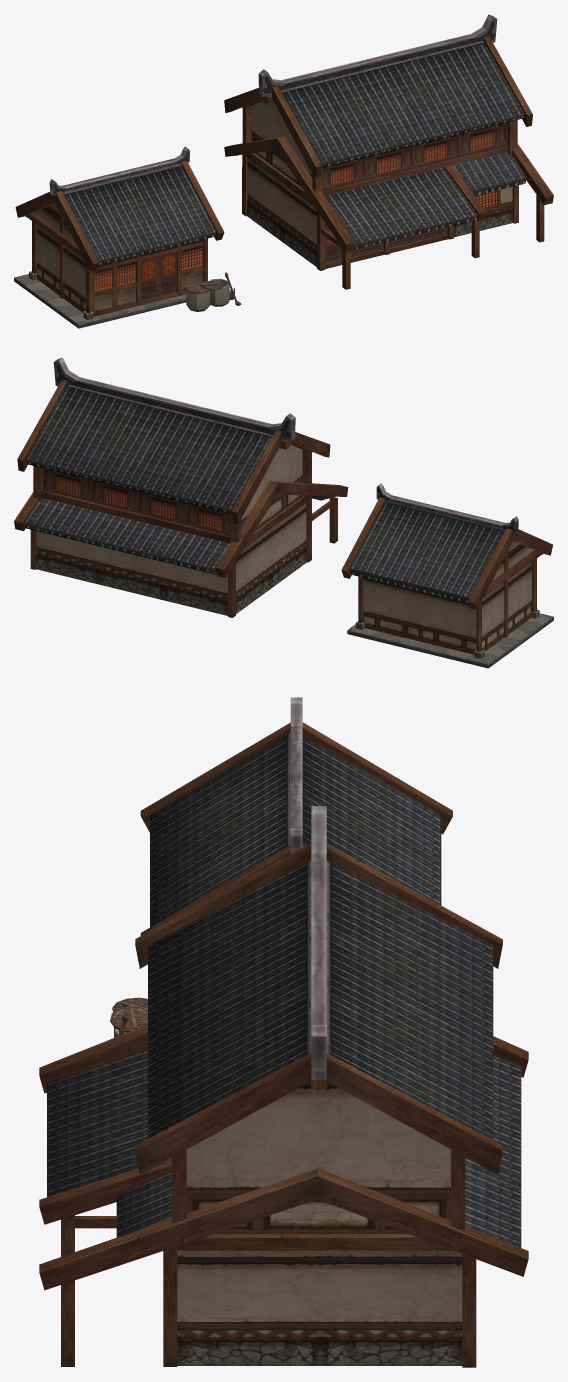
File: s7_3d_minju_new01.FBX
3 renders of one model, top to bottom at view 1: azimuth 30°, elevation 25°; view 2: azimuth 150°, elevation 25°; view 3: azimuth 270°, elevation 25°, orthographic. The views are drawn at different scales.
Visible parts, largest first — view 1: minju2_new01, Object01xcvcxv, minju1_new01; view 2: minju2_new01, Object01xcvcxv, minju1_new01; view 3: minju2_new01, Object01xcvcxv, minju1_new01.
Boxes of the visible parts, bbox=[...] form: minju2_new01: bbox=[224, 14, 553, 289]; Object01xcvcxv: bbox=[14, 146, 224, 328]; minju1_new01: bbox=[14, 272, 241, 324]; minju2_new01: bbox=[14, 357, 348, 617]; Object01xcvcxv: bbox=[341, 483, 553, 668]; minju1_new01: bbox=[347, 613, 553, 664]; minju2_new01: bbox=[39, 806, 528, 1367]; Object01xcvcxv: bbox=[140, 697, 452, 935]; minju1_new01: bbox=[110, 997, 147, 1037].
Bounding box in the file's own units: 22.04 × 8.2 × 10.28.
